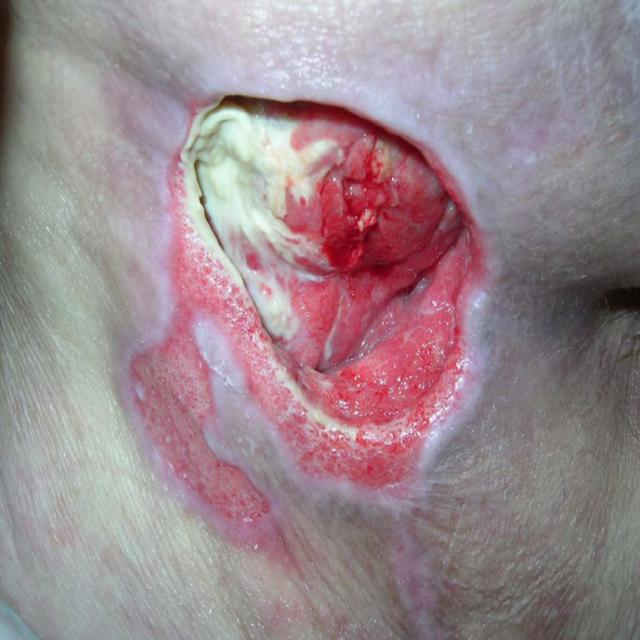stage-4: (134, 98, 474, 521)
